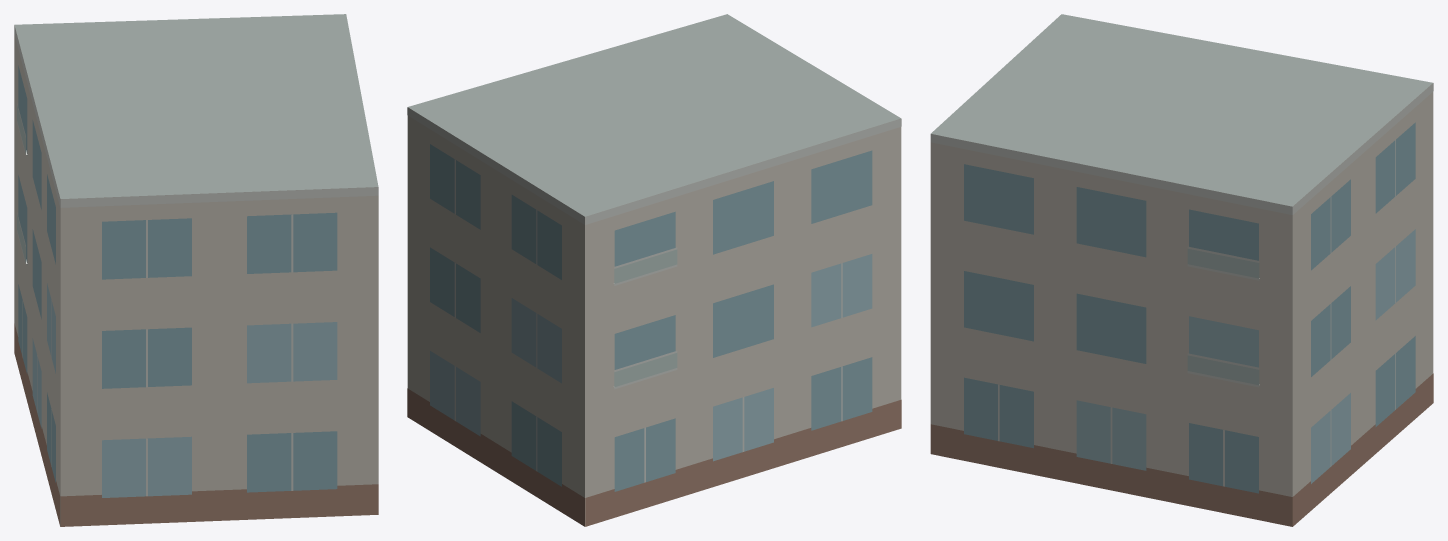
Rendered from survey-upis-32795412.glb.
3 renders of one model, left to right at view 1: azimuth 30°, elevation 25°; view 2: azimuth 150°, elevation 25°; view 3: azimuth 270°, elevation 25°, orthographic. The views are drawn at different scales.
Parts seen in each view (by area): view 1: survey-upis-32795412.tmp; view 2: survey-upis-32795412.tmp; view 3: survey-upis-32795412.tmp.
Part boxes in pixels (x1=…): survey-upis-32795412.tmp: x1=14, y1=14, x2=378, y2=526; survey-upis-32795412.tmp: x1=407, y1=14, x2=901, y2=526; survey-upis-32795412.tmp: x1=930, y1=14, x2=1433, y2=526.
Bounding box in the file's own units: 11.81 × 9.15 × 13.03.
